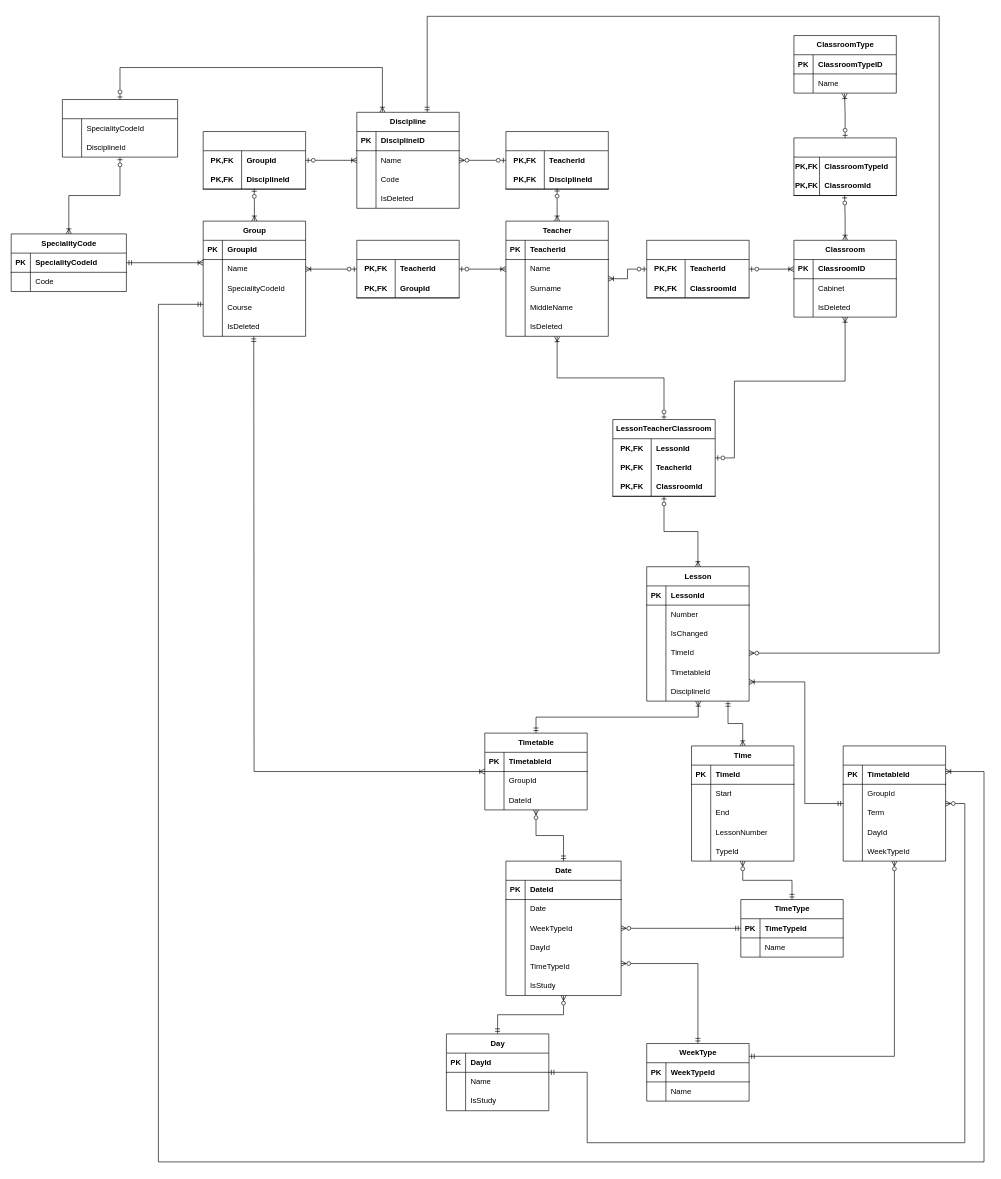
The diagram is 1001 pixels wide and 1179 high, and some of its shapes have lost their labels. Here are the shapes that lost their labels. From the top down, the box of each, then its label:
(62, 99, 178, 157): SpecialityCodeDiscipline
(203, 131, 306, 189): GroupDiscipline
(505, 131, 608, 189): TeacherDiscipline
(793, 137, 896, 196): ClassroomClassroomType
(356, 240, 459, 298): TeacherGroup
(646, 240, 749, 298): TeacherClassroom
(843, 745, 946, 861): TimetableTemplate
